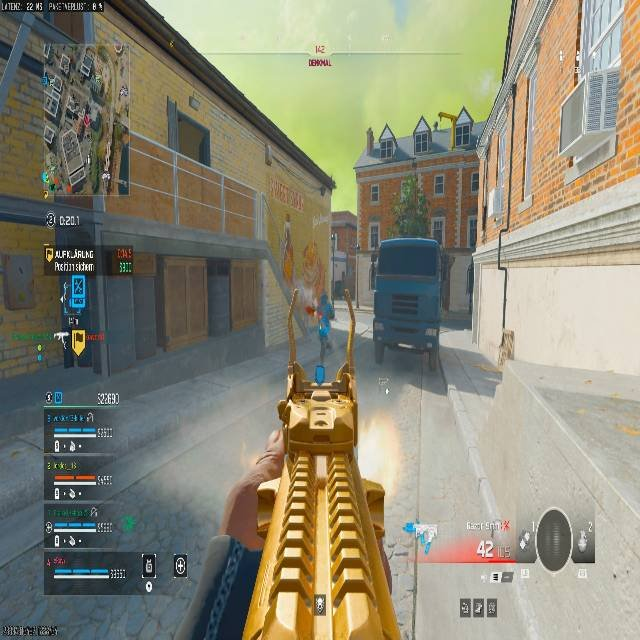player: (315, 292, 335, 364)
